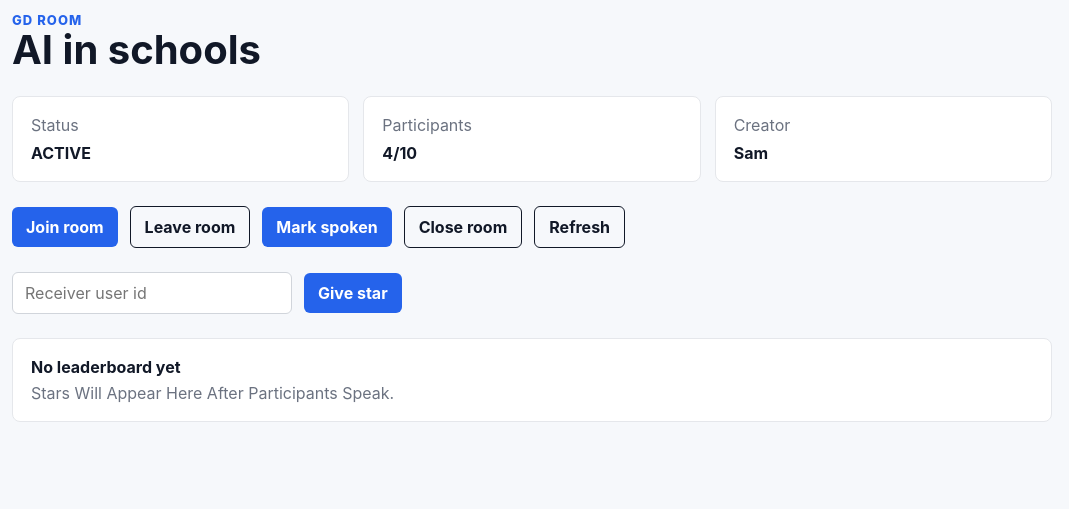
it: GDRoomPage › marks the authenticated participant as spoken and shows success feedback
Expected: the heading "AI in schools" is shown, [12, 25, 261, 74]
Click the button "Mark spoken".
click(327, 227)  # box [262, 207, 392, 247]
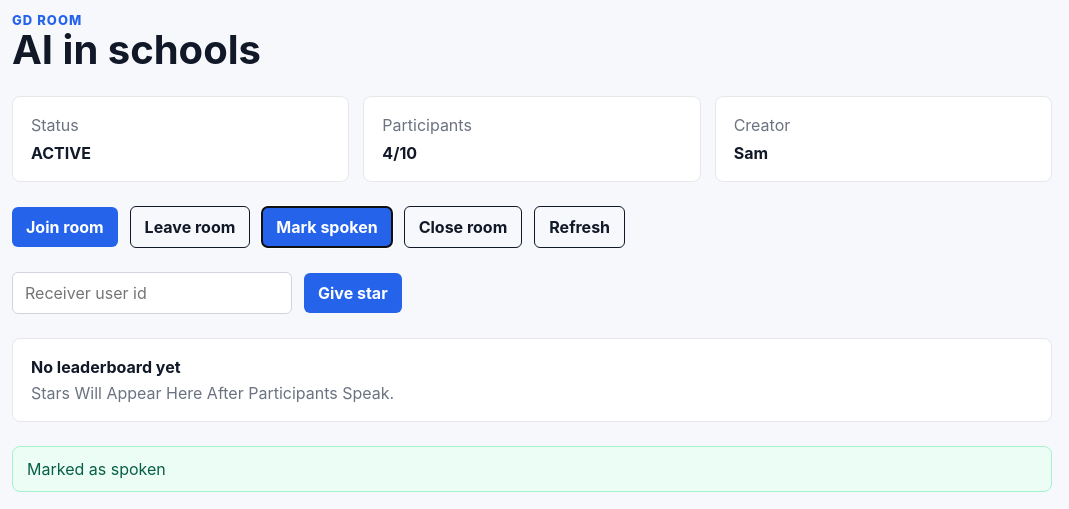
Result: the message reads "Marked as spoken" at [27, 459, 166, 479]
